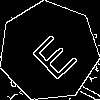E: (24, 26, 79, 82)
